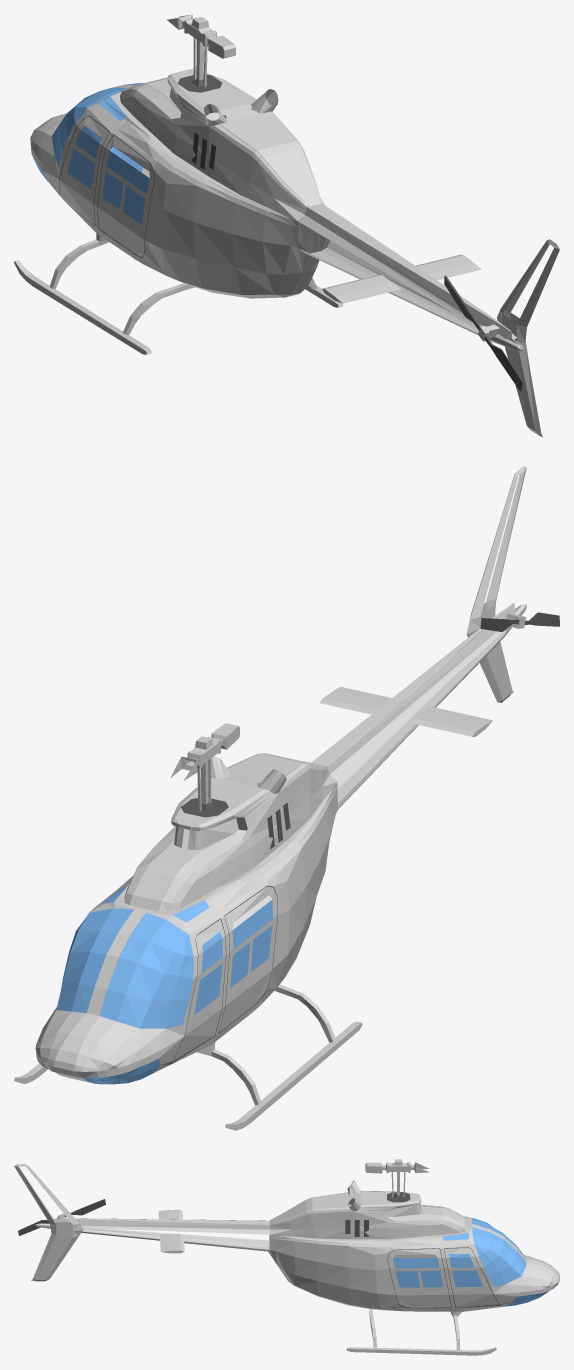
File: helicopter.obj
3 views of the same model, one above another, from view 1: azimuth 30°, elevation 25°; view 2: azimuth 150°, elevation 25°; view 3: azimuth 270°, elevation 25° (orthographic). The views are drawn at different scales.
Visible parts, largest first — view 1: Mesh7 Group1 Model, Mesh3 Group1 Model, Mesh26 Group1 Model, Mesh12 Group1 Model, Mesh2 Group1 Model, Mesh24 Group1 Model, Mesh22 Group1 Model, Mesh13 Group1 Model; view 2: Mesh7 Group1 Model, Mesh3 Group1 Model, Mesh26 Group1 Model, Mesh12 Group1 Model, Mesh2 Group1 Model, Mesh24 Group1 Model, Mesh22 Group1 Model; view 3: Mesh7 Group1 Model, Mesh3 Group1 Model, Mesh11 Group1 Model, Mesh2 Group1 Model, Mesh22 Group1 Model.
Part boxes in pixels (<box>): Mesh7 Group1 Model: <box>30,68,523,352</box>; Mesh3 Group1 Model: <box>497,239,559,437</box>; Mesh26 Group1 Model: <box>305,207,493,326</box>; Mesh12 Group1 Model: <box>14,260,151,354</box>; Mesh2 Group1 Model: <box>167,14,235,58</box>; Mesh24 Group1 Model: <box>322,274,400,303</box>; Mesh22 Group1 Model: <box>408,254,481,280</box>; Mesh13 Group1 Model: <box>122,283,194,335</box>; Mesh7 Group1 Model: <box>35,603,526,1105</box>; Mesh3 Group1 Model: <box>466,466,526,702</box>; Mesh26 Group1 Model: <box>328,615,500,773</box>; Mesh12 Group1 Model: <box>225,1021,362,1130</box>; Mesh2 Group1 Model: <box>170,723,239,780</box>; Mesh24 Group1 Model: <box>409,706,492,736</box>; Mesh22 Group1 Model: <box>319,686,402,716</box>; Mesh7 Group1 Model: <box>35,1180,559,1350</box>; Mesh3 Group1 Model: <box>14,1164,83,1281</box>; Mesh11 Group1 Model: <box>346,1347,496,1355</box>; Mesh2 Group1 Model: <box>365,1159,429,1173</box>; Mesh22 Group1 Model: <box>160,1233,184,1253</box>.
Size of the model in its own units: 34.31 by 47.42 by 136.
